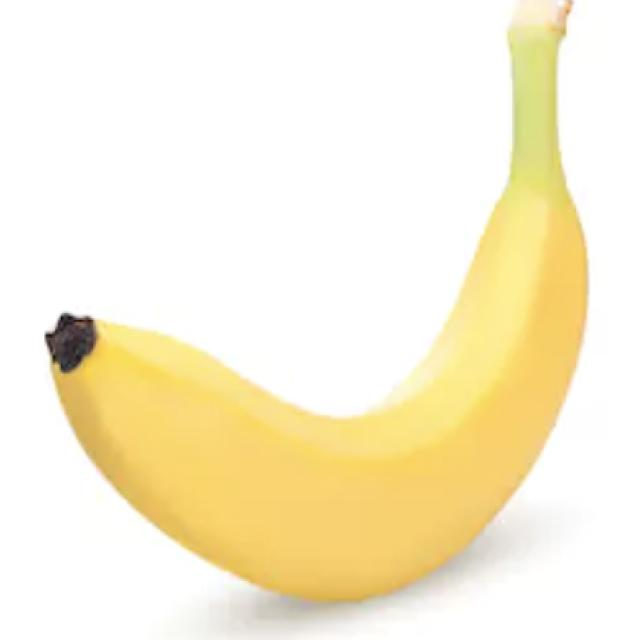fresh-banana: (42, 0, 589, 602)
